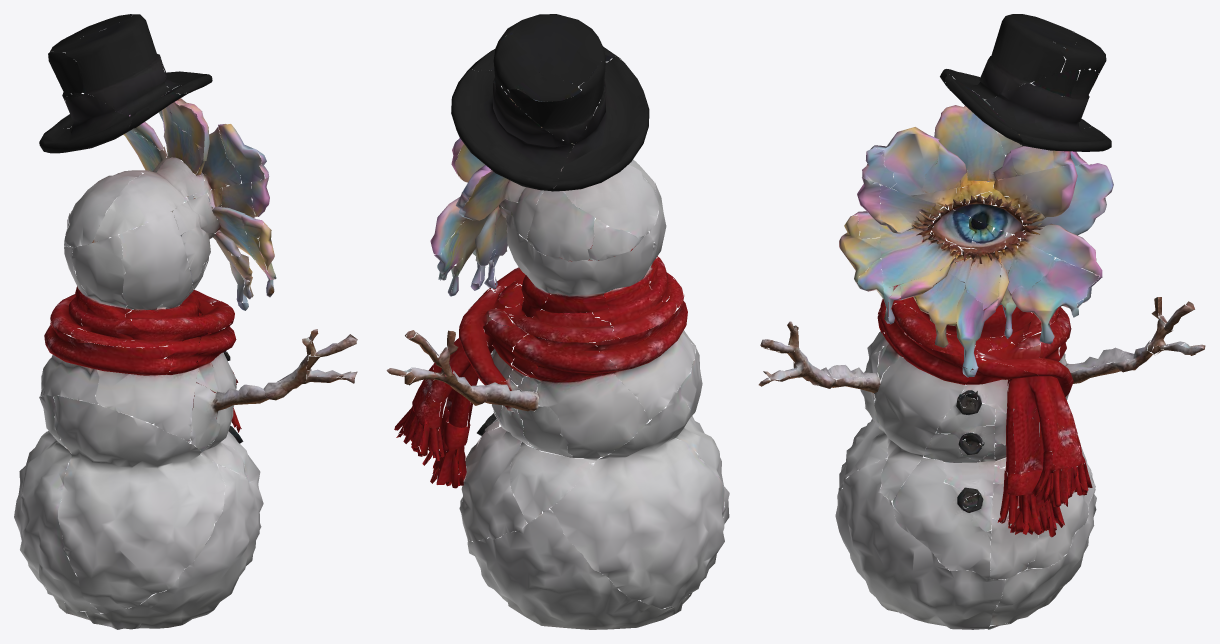
The model's file is lt_snowman.glb.
3 views of the same model, side by side, from view 1: azimuth 30°, elevation 25°; view 2: azimuth 150°, elevation 25°; view 3: azimuth 270°, elevation 25° (orthographic). The views are drawn at different scales.
Parts seen in each view (by area): view 1: tripo_node_25637a67-20e6-428d-b22e-af55a4c2b29d; view 2: tripo_node_25637a67-20e6-428d-b22e-af55a4c2b29d; view 3: tripo_node_25637a67-20e6-428d-b22e-af55a4c2b29d.
Boxes of the visible parts, box(x1,y1,x2,y2) form: tripo_node_25637a67-20e6-428d-b22e-af55a4c2b29d: box(14, 14, 357, 629); tripo_node_25637a67-20e6-428d-b22e-af55a4c2b29d: box(386, 14, 729, 629); tripo_node_25637a67-20e6-428d-b22e-af55a4c2b29d: box(758, 14, 1205, 629).
Size of the model in its own units: 0.4776 by 1 by 0.7034.
Materials: 1 (1 with a texture image).
